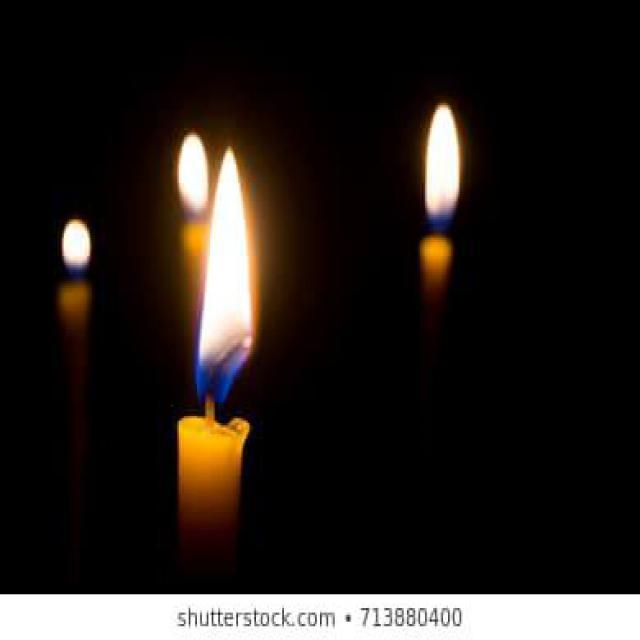Fire: (194, 146, 253, 405), (424, 104, 462, 228)
